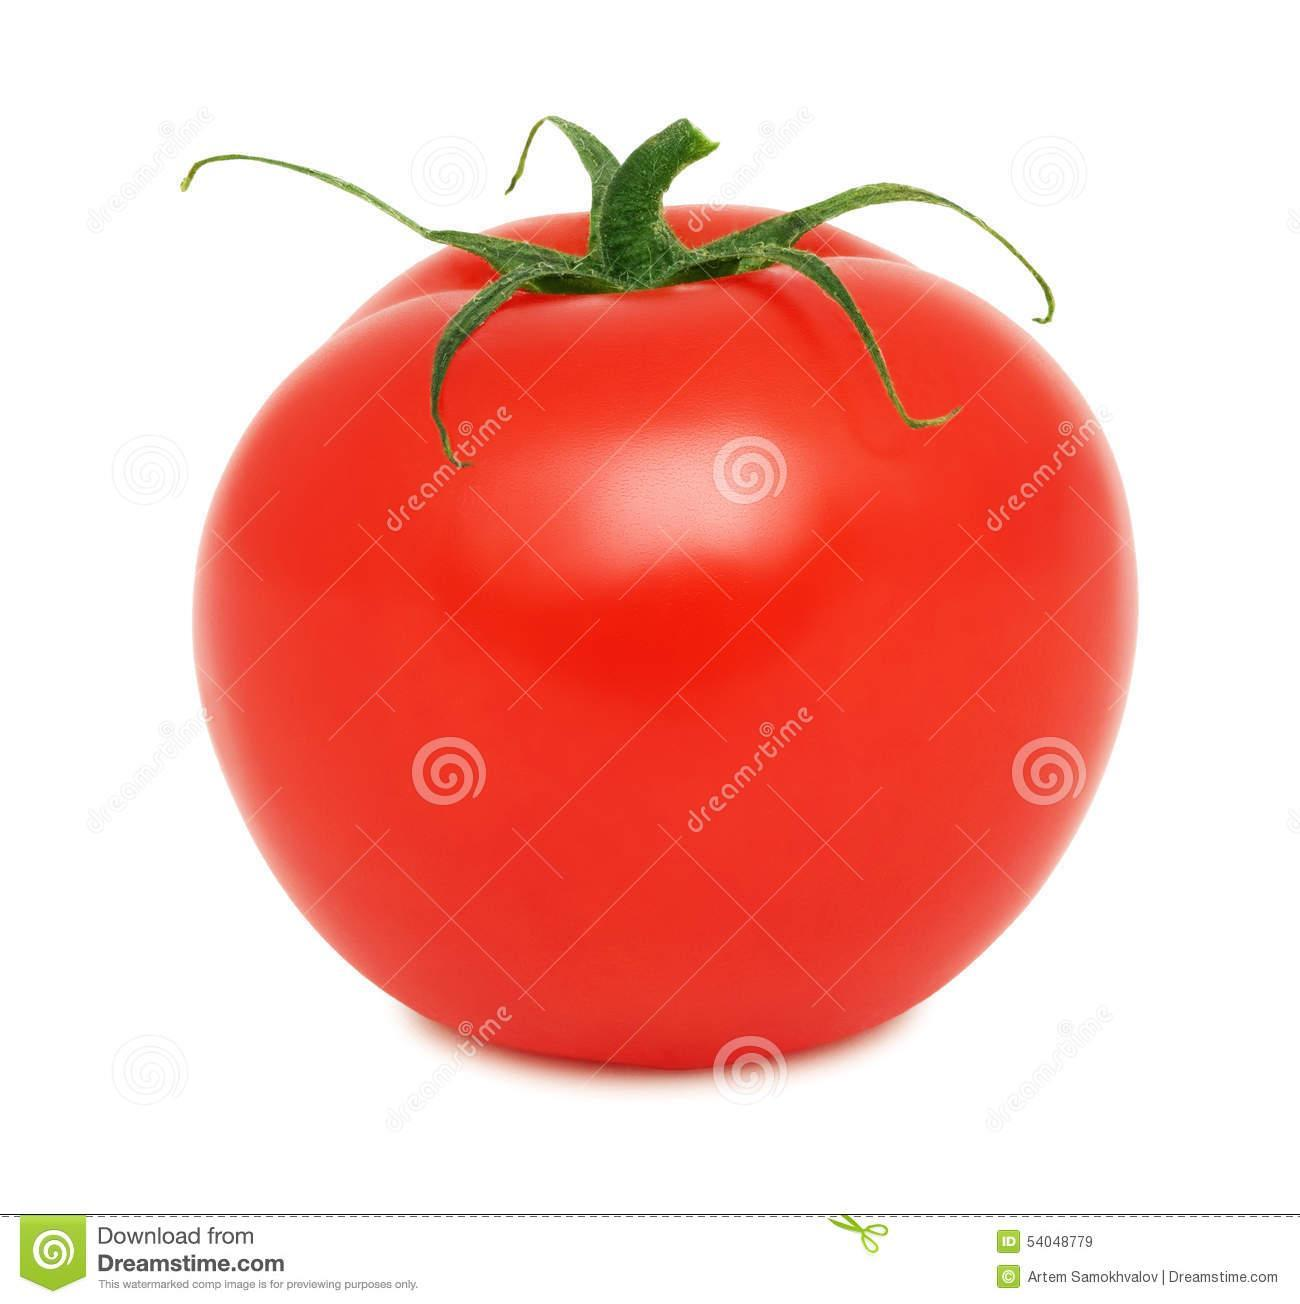healthy-tomato: (180, 117, 1144, 1079)
